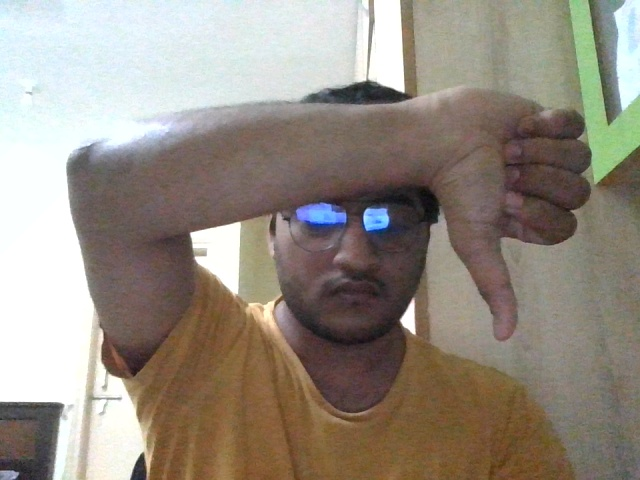thumbsdown: (430, 86, 591, 341)
